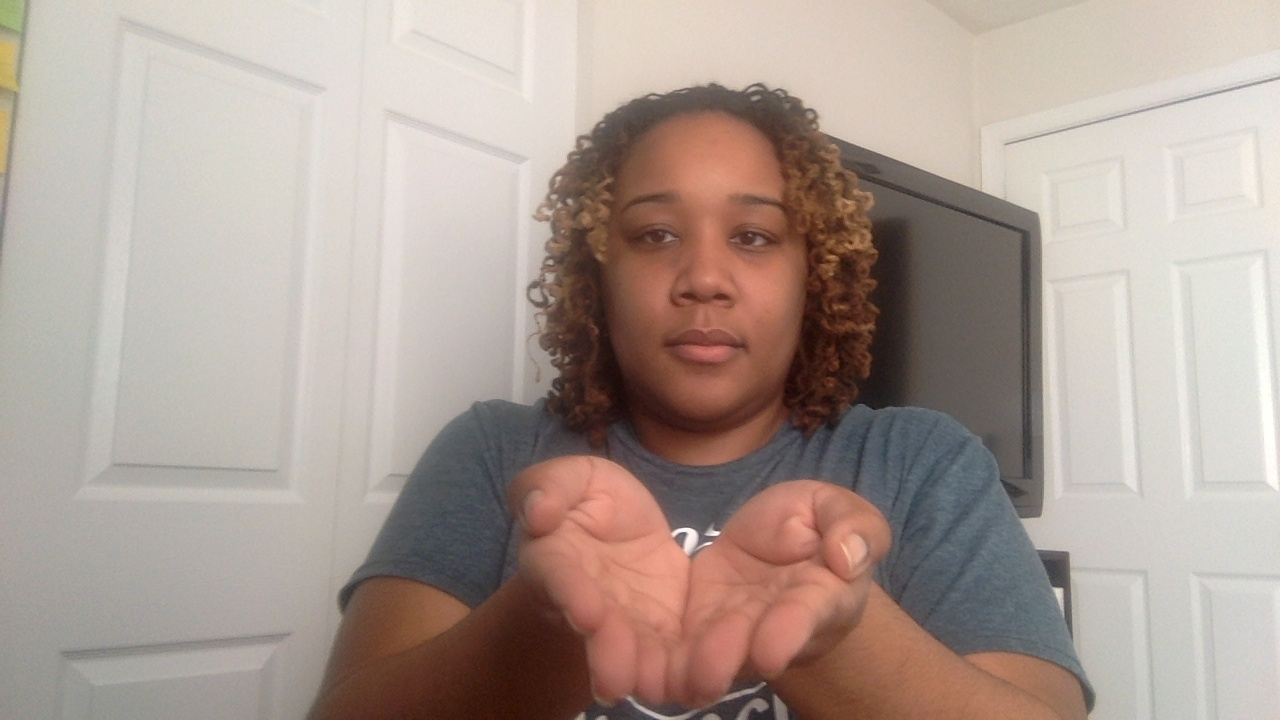book: (499, 445, 906, 718)
